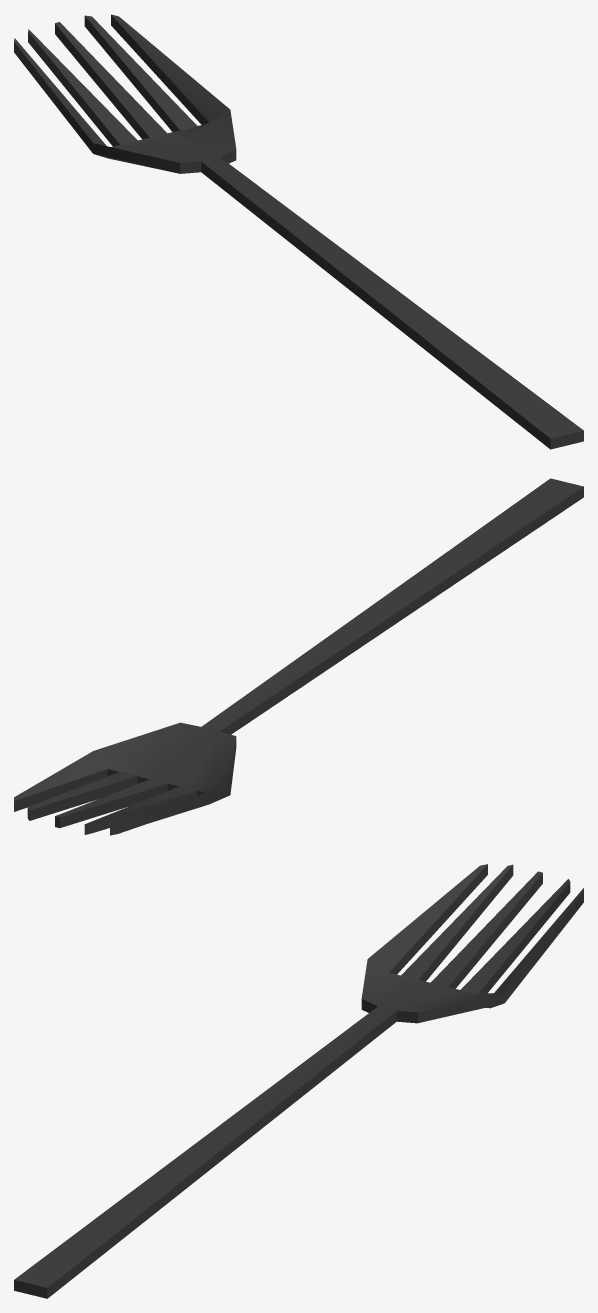
File: Fork.FBX
The picture shows the model from 3 angles, top to bottom: view 1: azimuth 30°, elevation 25°; view 2: azimuth 150°, elevation 25°; view 3: azimuth 330°, elevation 25°; orthographic projection.
Visible parts, largest first — view 1: Fork; view 2: Fork; view 3: Fork.
Part boxes in pixels (bbox=[...]): Fork: bbox=[14, 14, 583, 449]; Fork: bbox=[14, 478, 583, 835]; Fork: bbox=[14, 864, 583, 1298].
Bounding box in the file's own units: 13.23 × 4.58 × 85.36.
